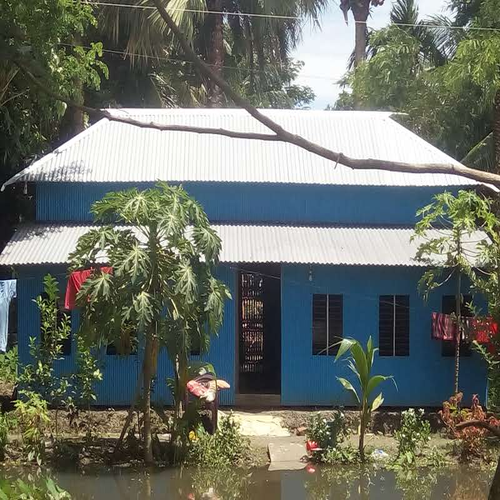Tin-shade House: (11, 96, 484, 402)
